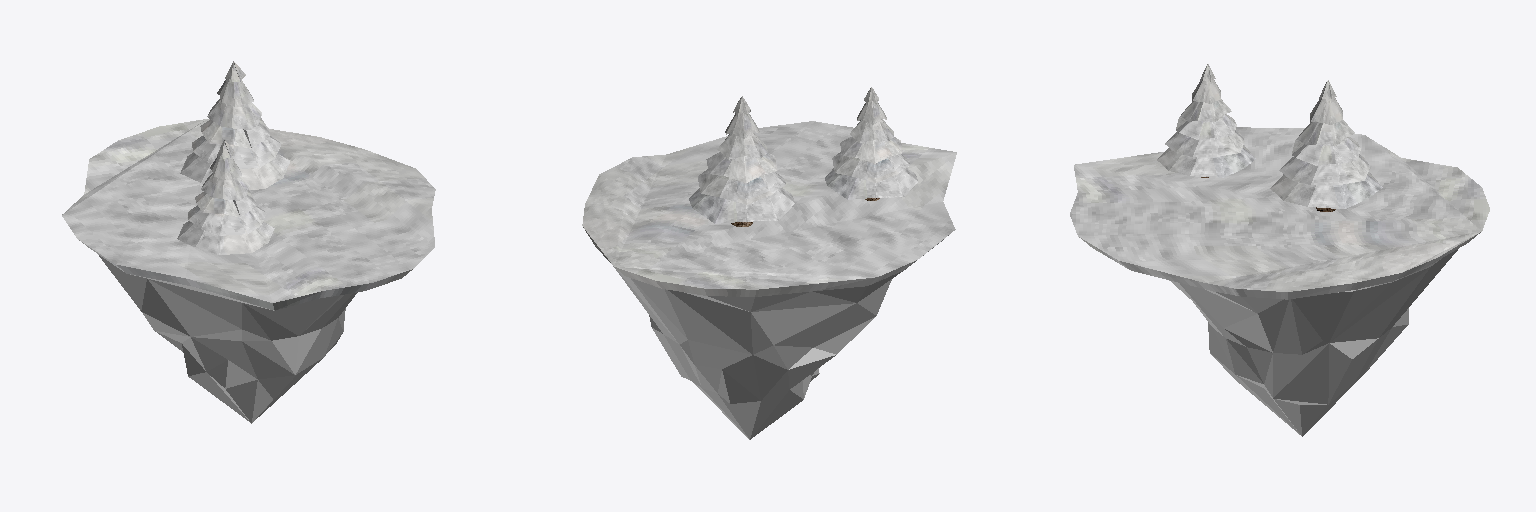
3 renders of one model, left to right at view 1: azimuth 30°, elevation 25°; view 2: azimuth 150°, elevation 25°; view 3: azimuth 270°, elevation 25°, orthographic.
Visible parts, largest first — view 1: Island_Grass_Cylinder.004, Island_Cylinder.003, Tree_Behind_Plant_Cylinder.005, Tree_Mid_Plant_Cylinder.009; view 2: Island_Grass_Cylinder.004, Island_Cylinder.003, Tree_Behind_Plant_Cylinder.005, Tree_Mid_Plant_Cylinder.009; view 3: Island_Grass_Cylinder.004, Island_Cylinder.003, Tree_Behind_Plant_Cylinder.005, Tree_Mid_Plant_Cylinder.009.
Boxes of the visible parts, x1,y1,x2,y2 form: Island_Grass_Cylinder.004: [62, 119, 435, 310]; Island_Cylinder.003: [99, 255, 357, 423]; Tree_Behind_Plant_Cylinder.005: [180, 61, 289, 189]; Tree_Mid_Plant_Cylinder.009: [177, 140, 274, 254]; Island_Grass_Cylinder.004: [582, 121, 956, 296]; Island_Cylinder.003: [613, 266, 902, 439]; Tree_Behind_Plant_Cylinder.005: [689, 96, 794, 223]; Tree_Mid_Plant_Cylinder.009: [825, 87, 917, 199]; Island_Grass_Cylinder.004: [1070, 127, 1489, 299]; Island_Cylinder.003: [1169, 249, 1457, 436]; Tree_Behind_Plant_Cylinder.005: [1270, 80, 1382, 208]; Tree_Mid_Plant_Cylinder.009: [1157, 64, 1255, 177].
Size of the model in its own units: 5.89 by 6.07 by 6.52.
Materials: 6 (2 with a texture image).